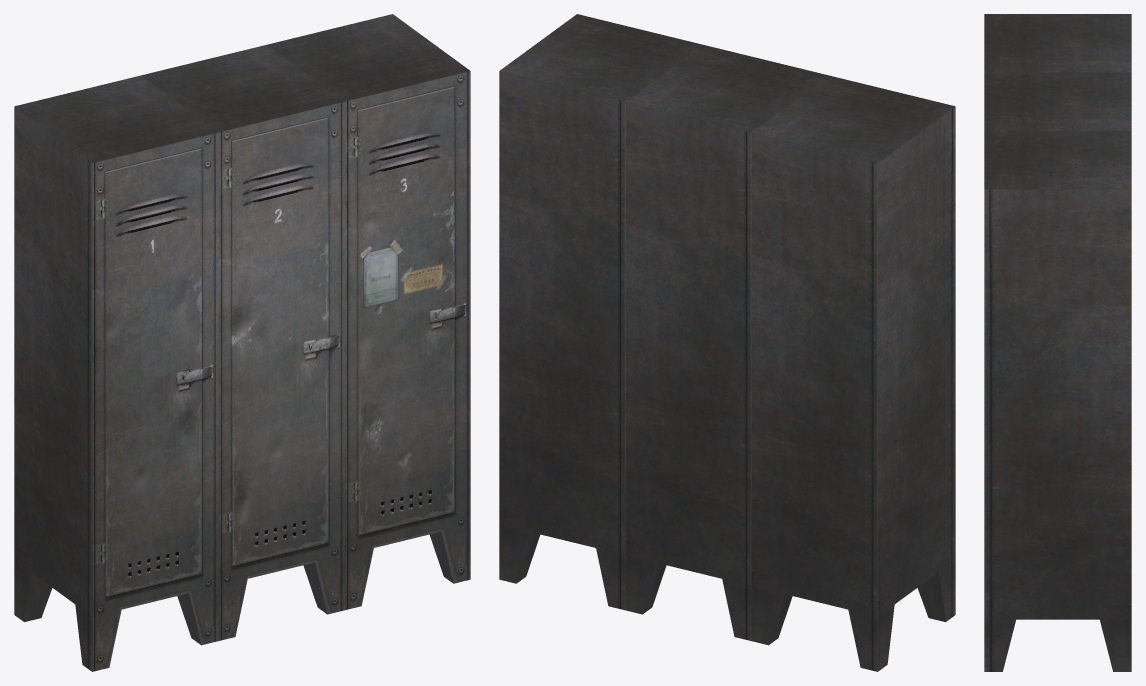
The model's file is locker.glb.
3 views of the same model, side by side, from view 1: azimuth 30°, elevation 25°; view 2: azimuth 150°, elevation 25°; view 3: azimuth 270°, elevation 25° (orthographic). The views are drawn at different scales.
Parts seen in each view (by area): view 1: storage_f; view 2: storage_f; view 3: storage_f.
Boxes of the visible parts, x1=… form: storage_f: x1=14, y1=14, x2=470, y2=671; storage_f: x1=499, y1=14, x2=955, y2=671; storage_f: x1=984, y1=14, x2=1131, y2=671.
Size of the model in its own units: 1.27 by 1.64 by 0.4538.
1 material, 1 textured.
